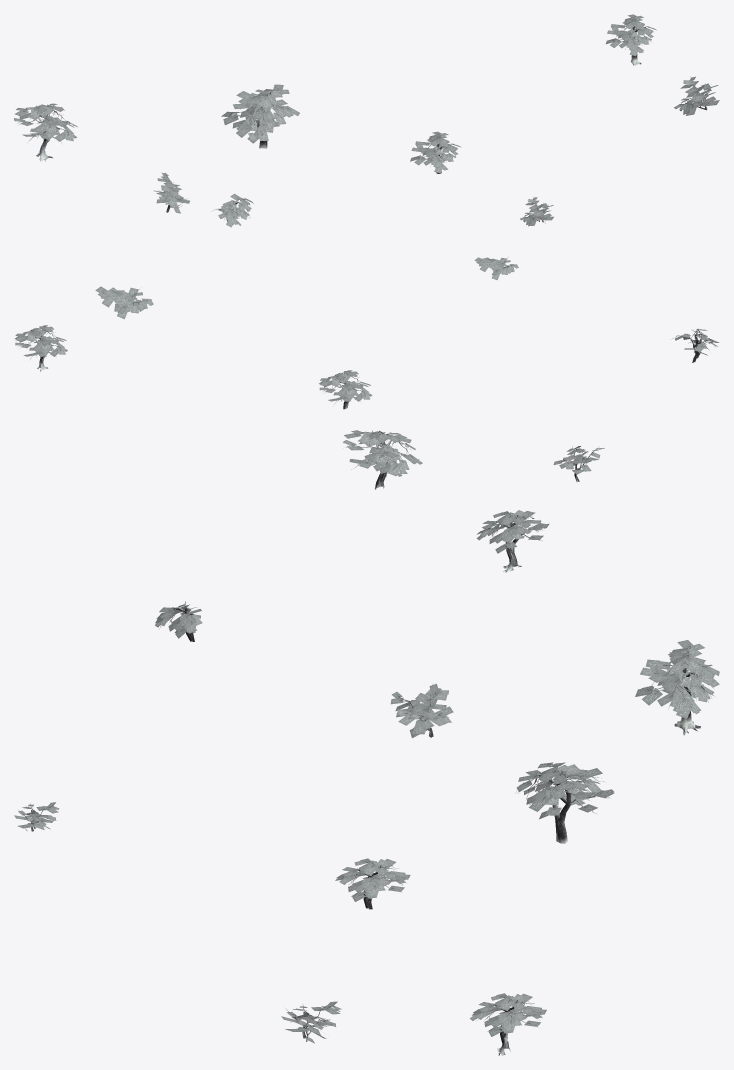
Rendered from S_Tree_White018_2.FBX.
The picture shows the model from 3 angles, top to bottom: view 1: azimuth 30°, elevation 25°; view 2: azimuth 150°, elevation 25°; view 3: azimuth 270°, elevation 25°; orthographic projection. The views are drawn at different scales.
Visible parts, largest first — view 1: S_Tree_White018_004, S_Tree_White018_005, S_Tree_White018_002, S_Tree_White018_003, S_Tree_White017_002, S_Tree_White018_001, S_Tree_White017_003, S_Tree_White017_001; view 2: S_Tree_White018_004, S_Tree_White018_005, S_Tree_White018_002, S_Tree_White018_003, S_Tree_White017_002, S_Tree_White017_003, S_Tree_White017_001; view 3: S_Tree_White018_005, S_Tree_White018_004, S_Tree_White018_002, S_Tree_White018_003, S_Tree_White017_003, S_Tree_White018_001, S_Tree_White017_002.
Part boxes in pixels (x1,y1,x2,y2): S_Tree_White018_004: (221, 84, 299, 148); S_Tree_White018_005: (14, 103, 77, 161); S_Tree_White018_002: (606, 14, 656, 65); S_Tree_White018_003: (410, 131, 461, 173); S_Tree_White017_002: (674, 76, 719, 115); S_Tree_White018_001: (213, 193, 253, 227); S_Tree_White017_003: (154, 172, 189, 213); S_Tree_White017_001: (520, 197, 553, 226); S_Tree_White018_004: (342, 430, 422, 489); S_Tree_White018_005: (476, 510, 549, 572); S_Tree_White018_002: (15, 325, 67, 371); S_Tree_White018_003: (319, 370, 372, 409); S_Tree_White017_002: (95, 286, 153, 319); S_Tree_White017_003: (553, 446, 604, 481); S_Tree_White017_001: (474, 257, 518, 280); S_Tree_White018_005: (635, 640, 719, 735); S_Tree_White018_004: (515, 762, 614, 843); S_Tree_White018_002: (470, 993, 546, 1055); S_Tree_White018_003: (335, 858, 410, 909); S_Tree_White017_003: (390, 683, 453, 738); S_Tree_White018_001: (155, 601, 202, 641); S_Tree_White017_002: (281, 1001, 341, 1043).
Size of the model in its own units: 14147 by 11043 by 2209.
